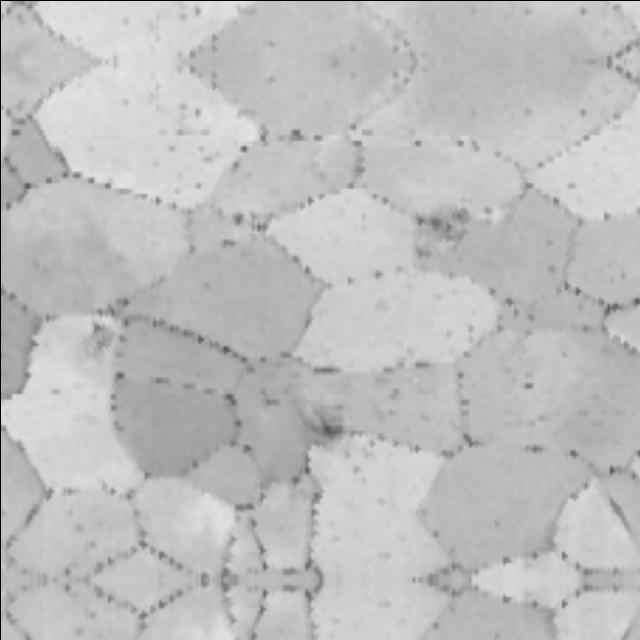good_void: (296, 400, 345, 444)
